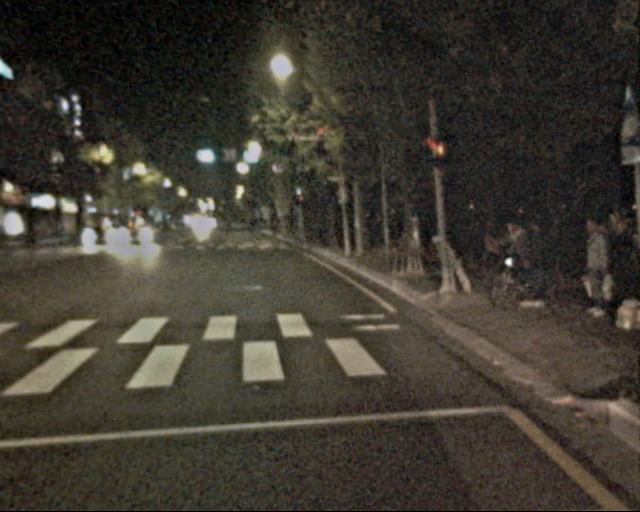person: (575, 219, 615, 316), (518, 221, 553, 306), (497, 221, 529, 300), (524, 211, 555, 285)
